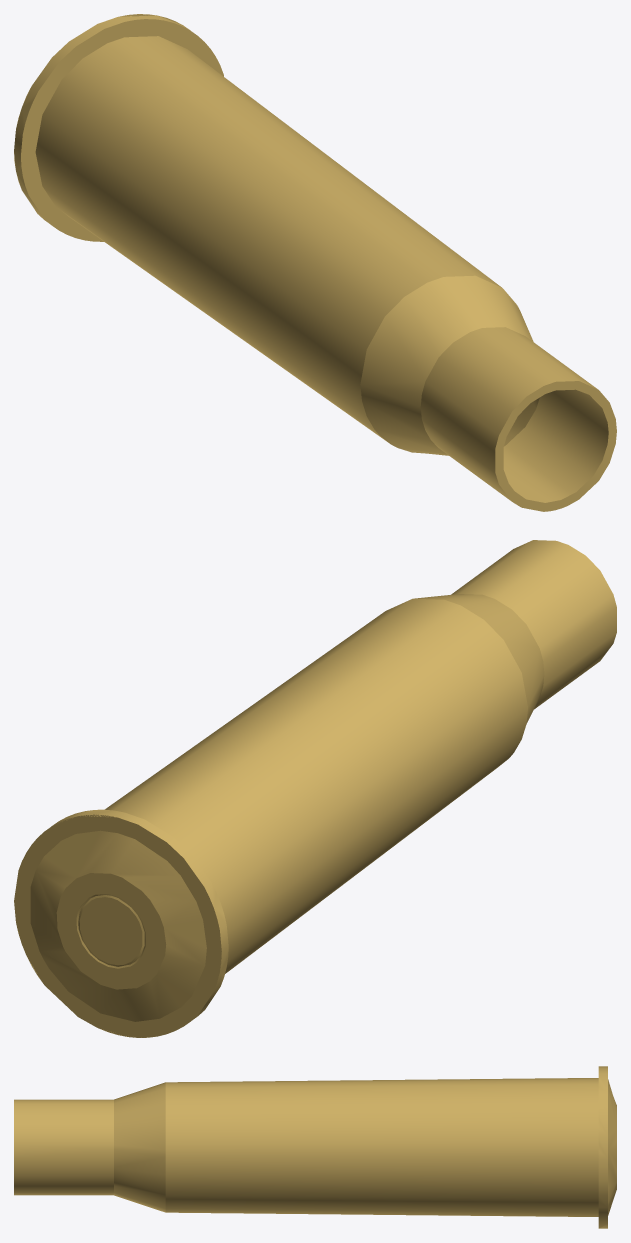
The model's file is M_KA72_7p62mm_Shell.fbx.
The picture shows the model from 3 angles, top to bottom: view 1: azimuth 30°, elevation 25°; view 2: azimuth 150°, elevation 25°; view 3: azimuth 270°, elevation 25°; orthographic projection. The views are drawn at different scales.
Visible parts, largest first — view 1: 7.62mm RUSSIAN; view 2: 7.62mm RUSSIAN; view 3: 7.62mm RUSSIAN.
Boxes of the visible parts, left/top/right/bottom form: 7.62mm RUSSIAN: left=14, top=14, right=616, bottom=511; 7.62mm RUSSIAN: left=14, top=540, right=616, bottom=1037; 7.62mm RUSSIAN: left=14, top=1066, right=616, bottom=1228.
Size of the model in its own units: 1.14 by 1.14 by 4.23.
